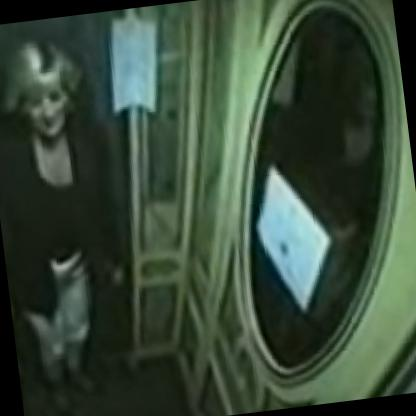Human Body: (0, 34, 129, 415)
